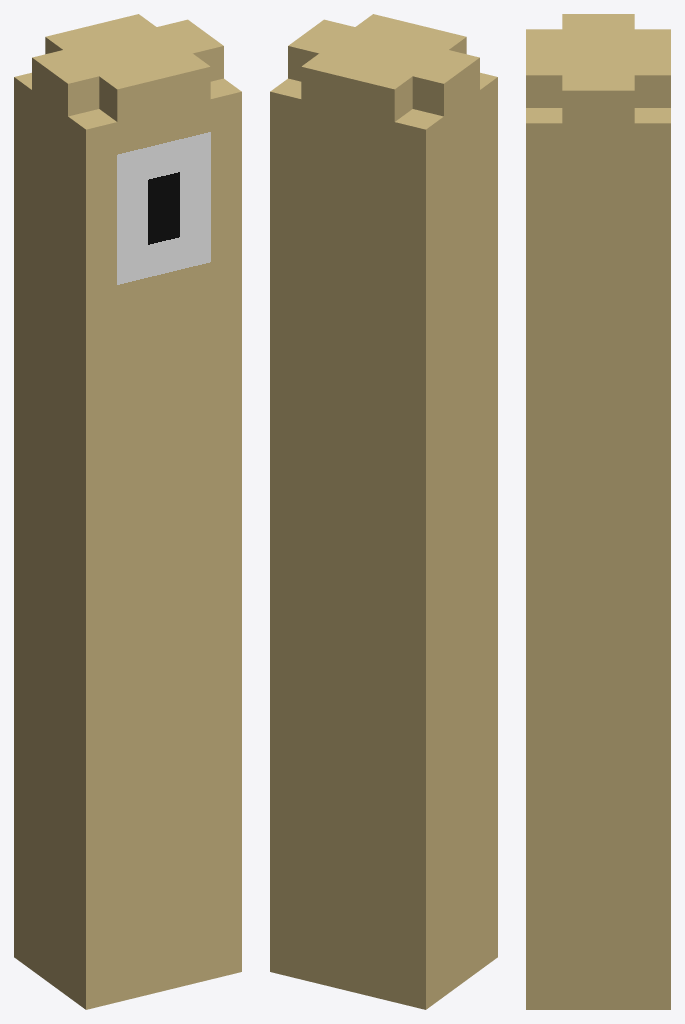
File: worm.fbx
3 views of the same model, side by side, from view 1: azimuth 30°, elevation 25°; view 2: azimuth 150°, elevation 25°; view 3: azimuth 270°, elevation 25° (orthographic).
Visible parts, largest first — view 1: worm; view 2: worm; view 3: worm.
Part boxes in pixels (<box>): worm: <box>14,14,241,1009</box>; worm: <box>270,14,497,1009</box>; worm: <box>526,14,670,1009</box>.
Size of the model in its own units: 5 by 28 by 4.
Materials: 1 (1 with a texture image).
